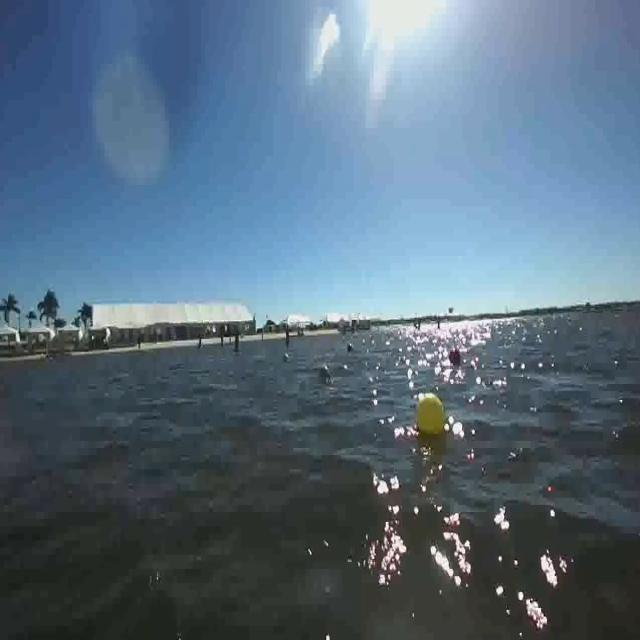yellow-buoy: (415, 392, 446, 438)
